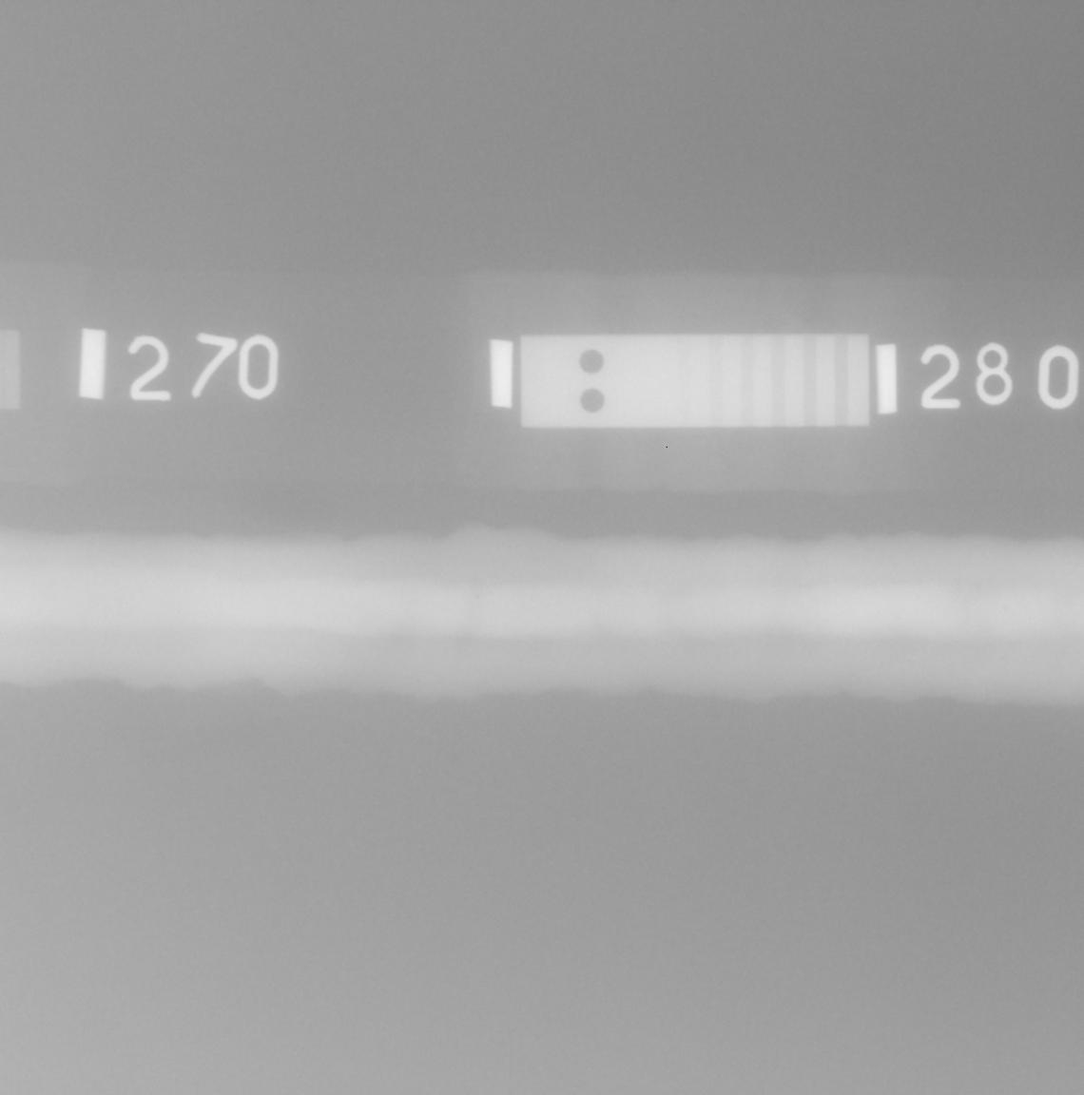Pore/Porosity: (1003, 605, 1010, 611), (475, 594, 480, 599)
Reference Standard 2: (521, 334, 869, 428)
